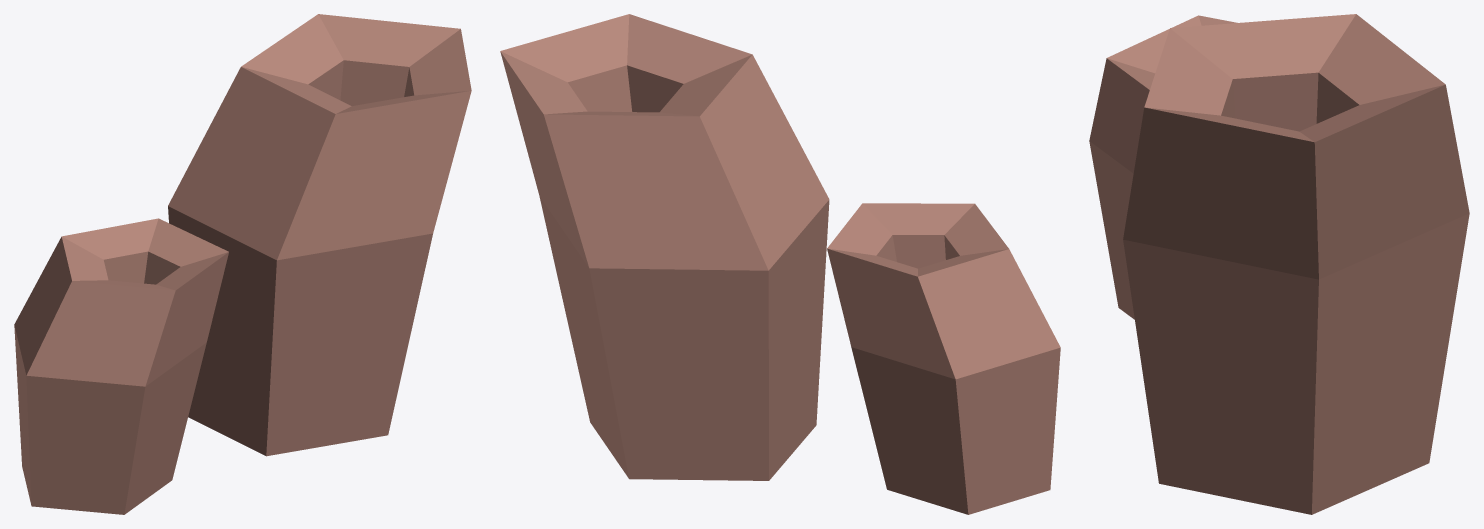
File: detail_004b_cup_sponge.glb
3 renders of one model, left to right at view 1: azimuth 30°, elevation 25°; view 2: azimuth 150°, elevation 25°; view 3: azimuth 270°, elevation 25°, orthographic. The views are drawn at different scales.
Visible parts, largest first — view 1: detail_004b_cup_sponge__mesh; view 2: detail_004b_cup_sponge__mesh; view 3: detail_004b_cup_sponge__mesh.
Boxes of the visible parts, x1,y1,x2,y2 form: detail_004b_cup_sponge__mesh: (14,14,471,514); detail_004b_cup_sponge__mesh: (500,14,1060,514); detail_004b_cup_sponge__mesh: (1089,14,1469,514).
Size of the model in its own units: 0.163 by 0.1068 by 0.0866.
